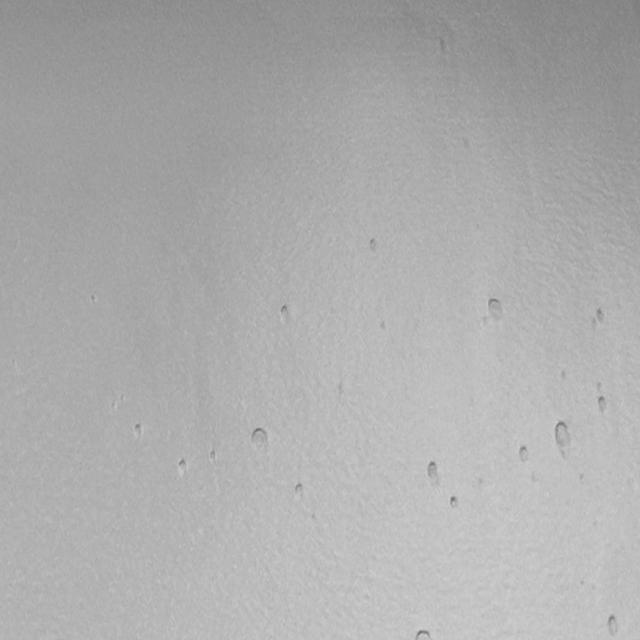pin holes: (551, 416, 576, 458), (246, 425, 271, 454), (482, 296, 506, 326), (603, 612, 625, 639), (422, 458, 442, 486), (276, 300, 295, 326), (592, 306, 611, 330), (596, 392, 614, 417), (131, 420, 148, 444), (446, 492, 465, 513), (176, 457, 194, 479), (516, 443, 533, 466), (367, 234, 384, 255), (293, 480, 309, 501), (413, 628, 434, 639), (207, 448, 220, 464), (88, 294, 101, 308)
